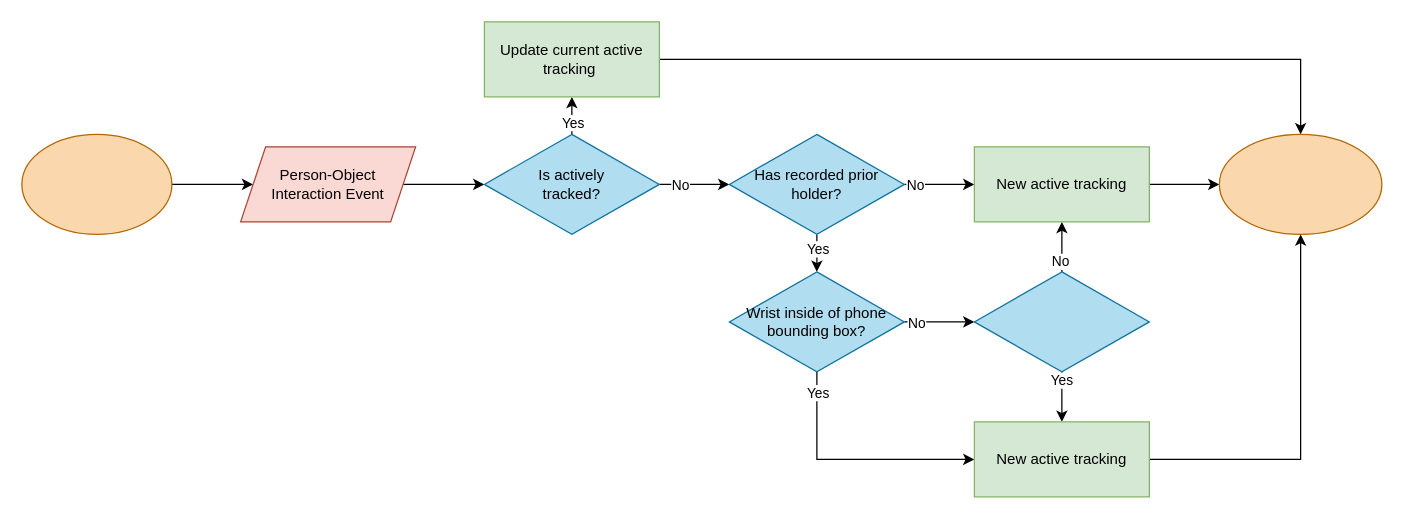
Image size: 1404x519. Some labels were removed from this diagram. Here are the shapes that lost their labels. From the top down, the centre of each, then its label:
At point 96,183: "Start".
At point 1300,183: "End".
At point 1061,321: "Within 75 pixels?".
